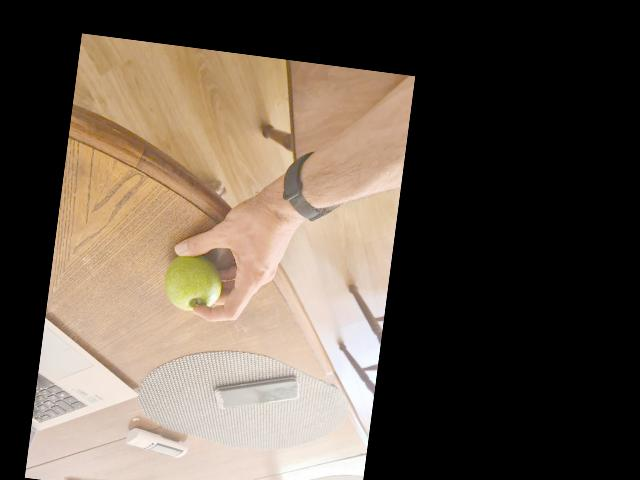apple: (160, 249, 222, 314)
